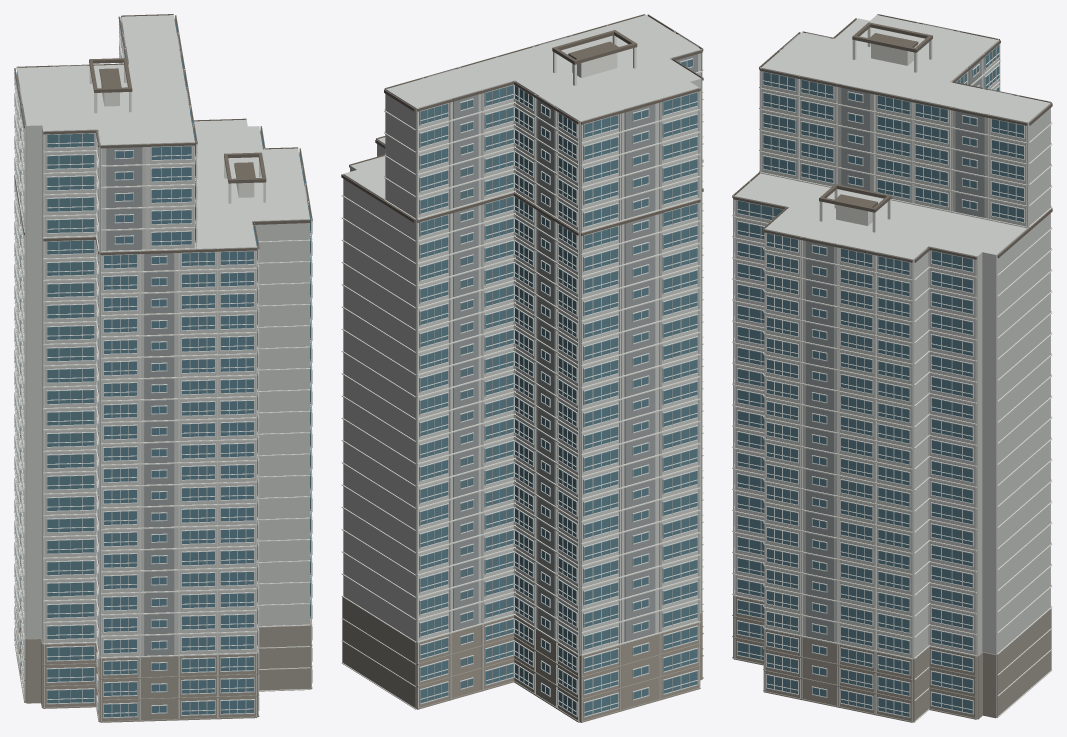
Rendered from bespoke-banpo-xi-128.glb.
3 renders of one model, left to right at view 1: azimuth 30°, elevation 25°; view 2: azimuth 150°, elevation 25°; view 3: azimuth 270°, elevation 25°, orthographic. The views are drawn at different scales.
Visible parts, largest first — view 1: editable_BX128_pale_silver_limestone, editable_BX128_blue_grey_broad_glazing, editable_BX128_white_window_frames, editable_BX128_ivory_course_bands, editable_BX128_grey_service_core, editable_BX128_warm_ground_stone, editable_BX128_dark_coping; view 2: editable_BX128_pale_silver_limestone, editable_BX128_blue_grey_broad_glazing, editable_BX128_white_window_frames, editable_BX128_ivory_course_bands, editable_BX128_grey_service_core, editable_BX128_warm_ground_stone, editable_BX128_dark_coping; view 3: editable_BX128_pale_silver_limestone, editable_BX128_blue_grey_broad_glazing, editable_BX128_white_window_frames, editable_BX128_ivory_course_bands, editable_BX128_grey_service_core, editable_BX128_warm_ground_stone, editable_BX128_dark_coping.
Boxes of the visible parts, x1,y1,x2,y2 form: editable_BX128_pale_silver_limestone: (17,15,309,657); editable_BX128_blue_grey_broad_glazing: (16,19,310,717); editable_BX128_white_window_frames: (14,21,312,718); editable_BX128_ivory_course_bands: (14,15,312,722); editable_BX128_grey_service_core: (19,34,307,655); editable_BX128_warm_ground_stone: (14,601,312,722); editable_BX128_dark_coping: (14,14,312,255); editable_BX128_pale_silver_limestone: (343,15,701,721); editable_BX128_blue_grey_broad_glazing: (419,59,697,716); editable_BX128_white_window_frames: (419,58,698,717); editable_BX128_ivory_course_bands: (341,14,703,721); editable_BX128_grey_service_core: (427,34,698,641); editable_BX128_warm_ground_stone: (342,597,703,722); editable_BX128_dark_coping: (341,14,703,235); editable_BX128_pale_silver_limestone: (734,15,1050,718); editable_BX128_blue_grey_broad_glazing: (737,45,1023,716); editable_BX128_white_window_frames: (734,44,1024,717); editable_BX128_ivory_course_bands: (732,14,1052,721); editable_BX128_grey_service_core: (783,24,1013,642); editable_BX128_warm_ground_stone: (732,596,1051,722); editable_BX128_dark_coping: (732,14,1052,262).
Bounding box in the file's own units: 39.22 × 76.5 × 37.6.
